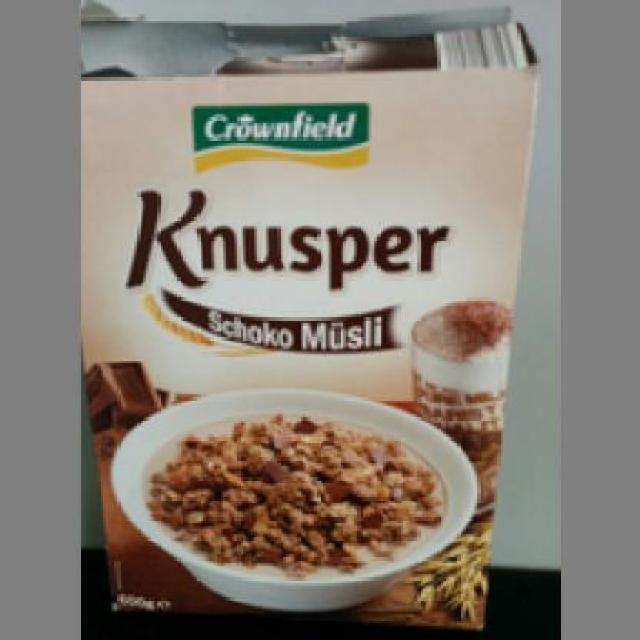Cereal: (77, 69, 543, 632)
